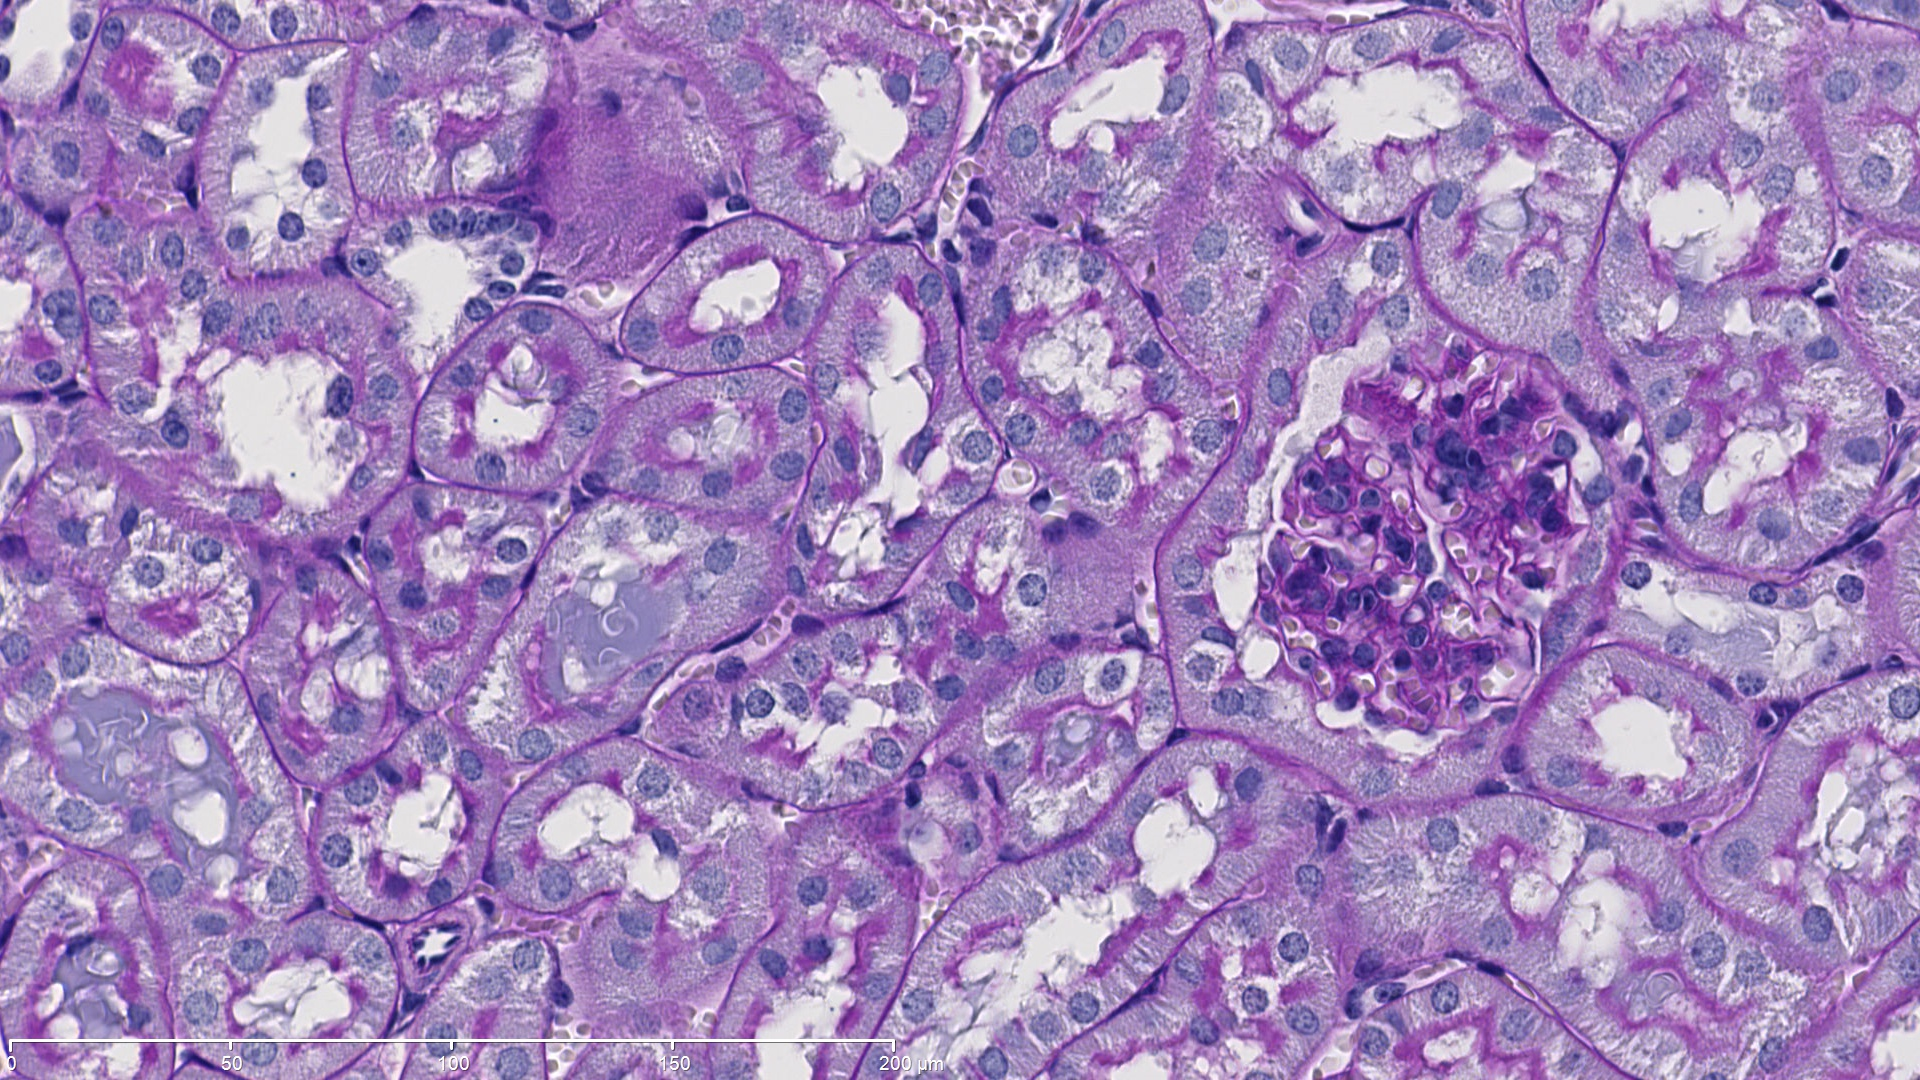Glomeruli: (1251, 342, 1619, 749)
